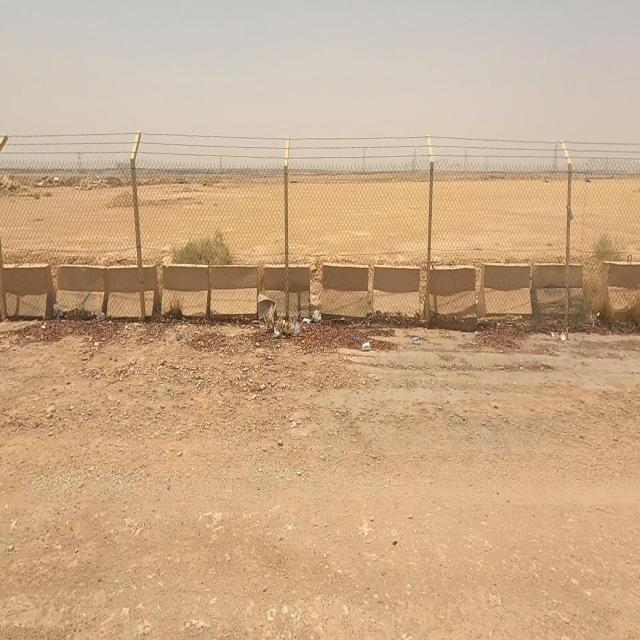debris: (290, 268, 344, 364), (344, 316, 389, 381), (402, 324, 433, 368)
